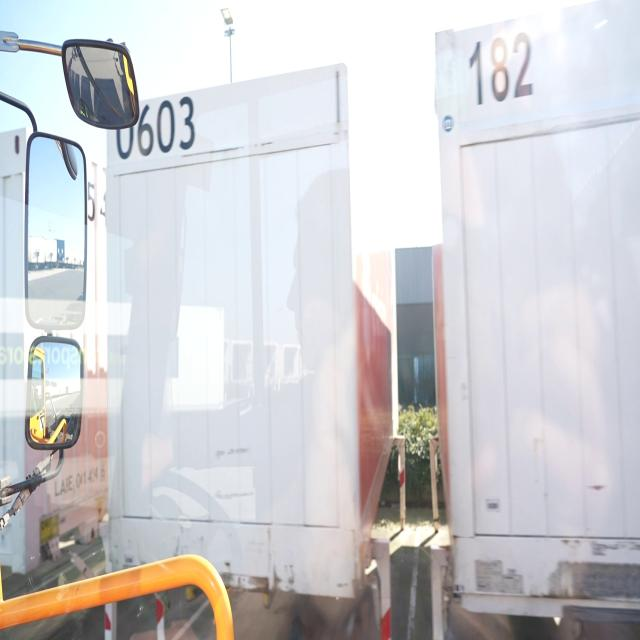Code: (466, 28, 538, 108)
